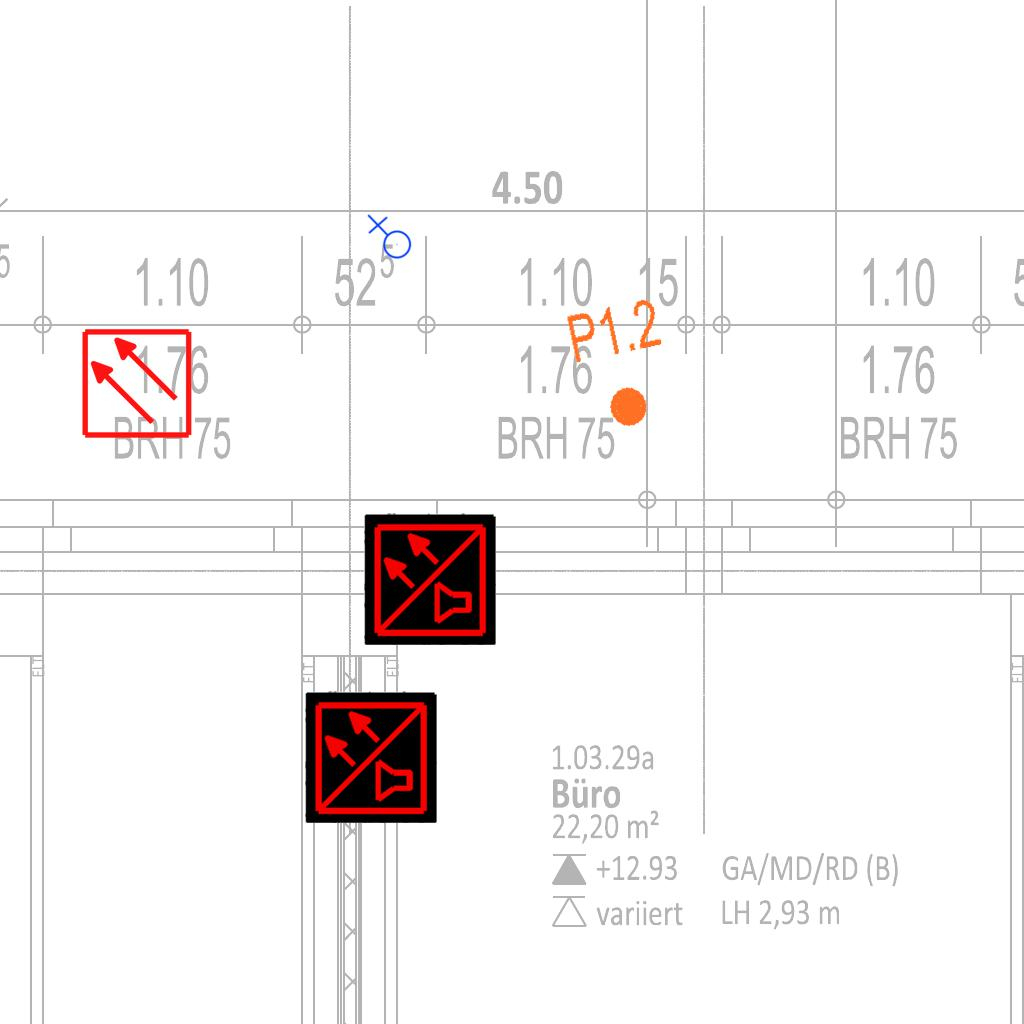Downlight_LED_Einbauleuchten_Flur: (562, 293, 681, 439)
Elektroanschluss_allgemein_230V_Geraeteanschlussdose_230V: (365, 214, 412, 263)
OKW_Multisensormelder_(Kombination_optischer_Rauch-Kahlenmonoxid_Waerme-Melder): (364, 513, 496, 645), (305, 691, 437, 823)
RMO_Rauchmelder_optischer: (80, 327, 193, 440)
